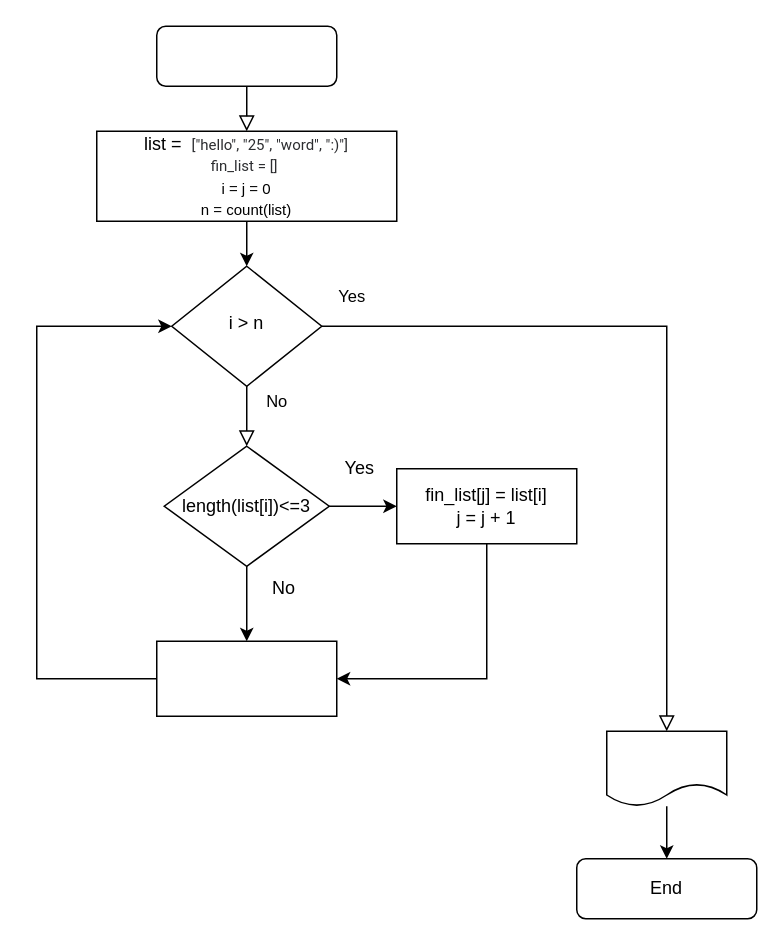
Some shapes in this 783 by 945 pixel diagram are drawn without their labels. Here are the shapes that lost their labels. From the top down, the box of each, then its label:
(155, 25, 337, 86): begin
(155, 640, 337, 716): i = i + 1
(605, 730, 727, 806): print(fin_list)
